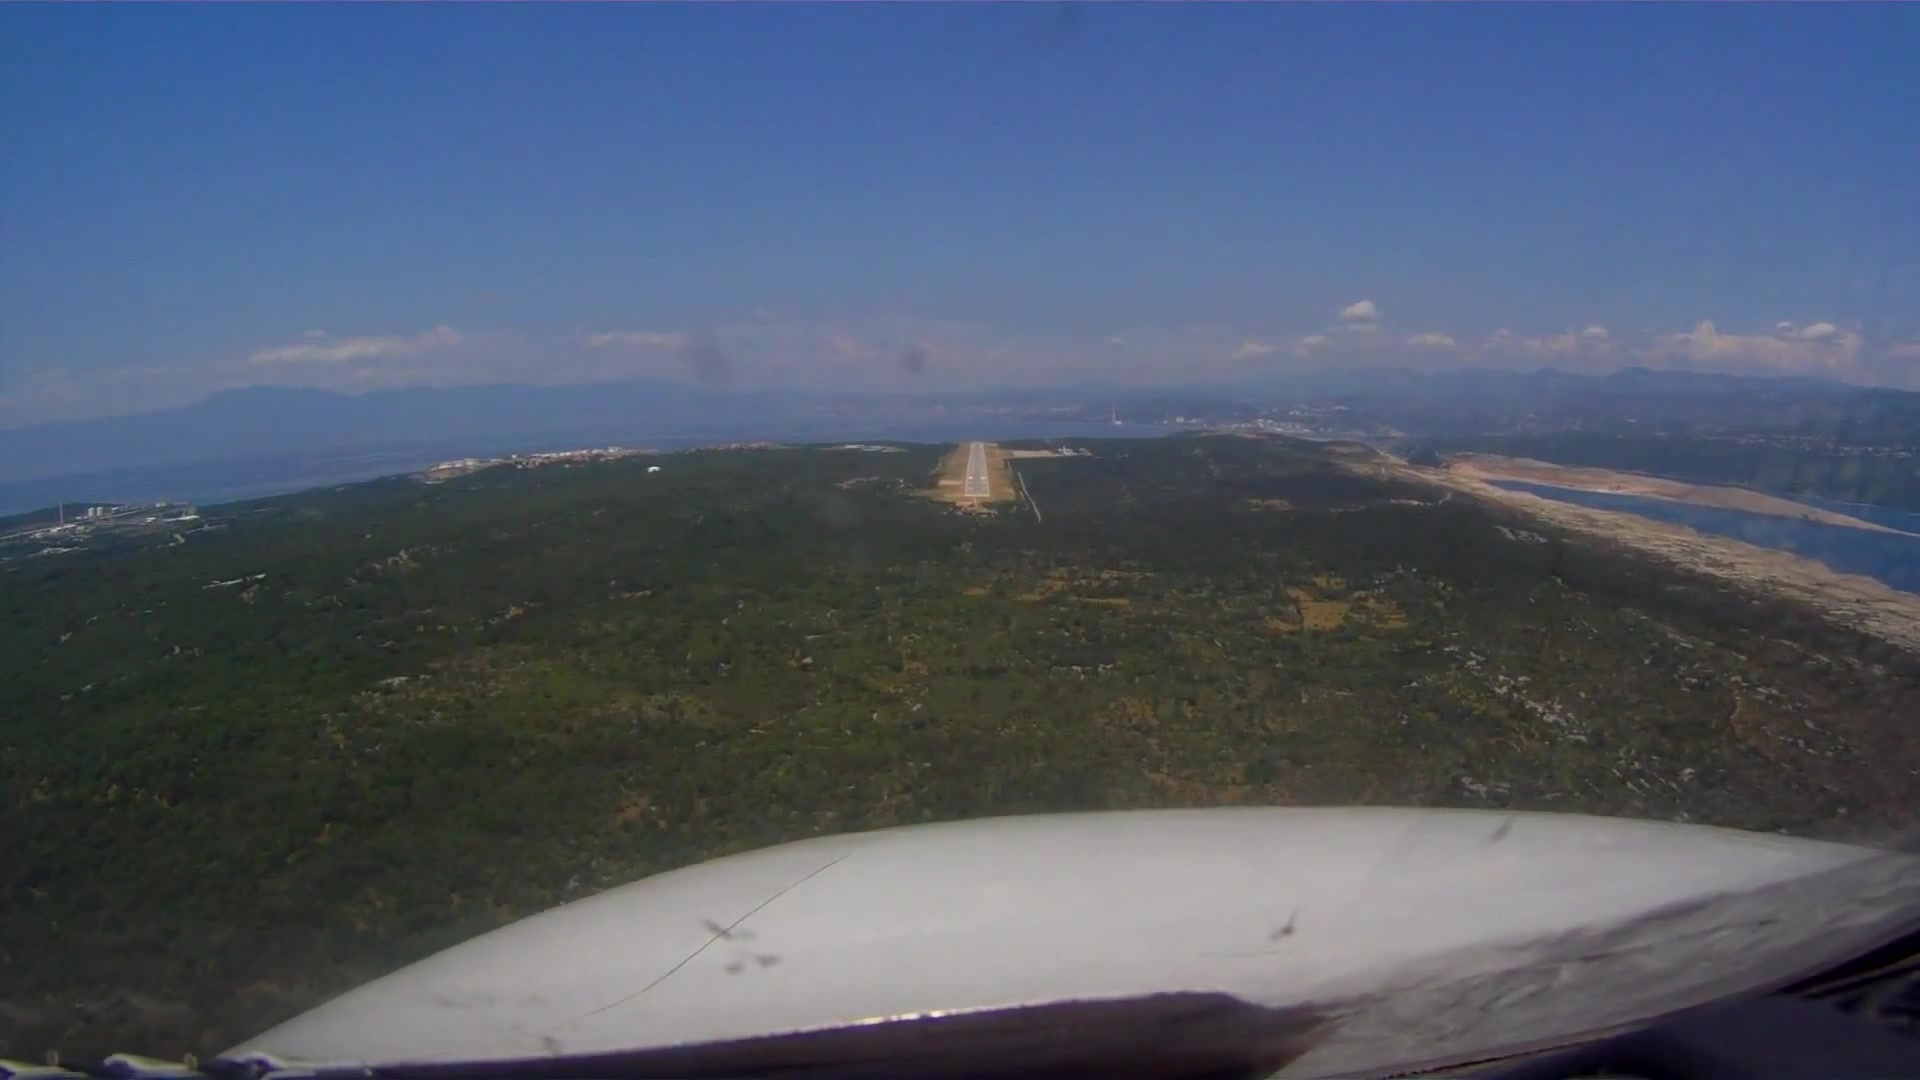runway: (961, 442, 992, 498)
